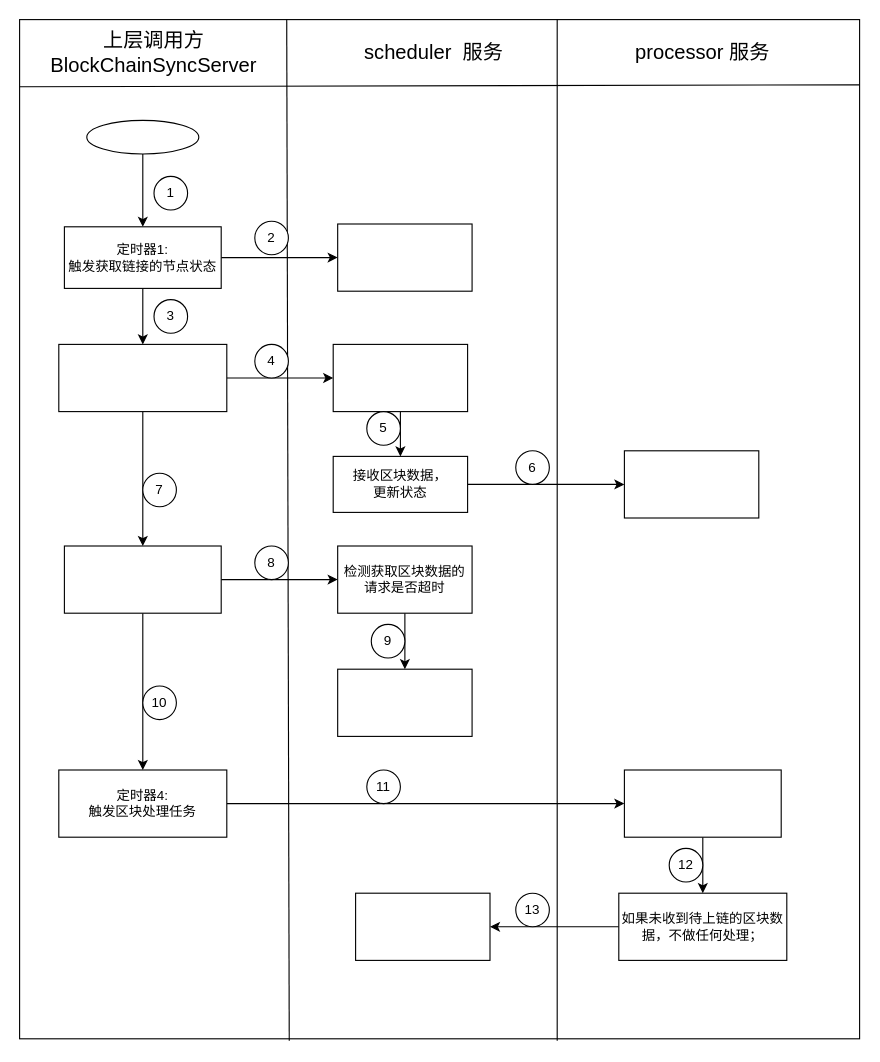
Some shapes in this 880 by 1062 pixel diagram are drawn without their labels. The shapes that lost their labels are listed below. From the top down, each one's centre as x and y in pixels, then its label:
[142,136]: 开始
[404,257]: 接收节点状态应答， 更新节点状态
[142,377]: 定时器2: 触发获取区块任务
[400,377]: 依据内部状态，选择 合适的区块高度、节点，进行请求
[691,484]: 接收区块， 更新内部状态
[142,579]: 定时器3: 触发请求的超时检测
[404,702]: 超时的请求重新放回任务队列，等待下次获取区块任务的触发
[702,803]: 依据内部状态，选择下一个待上链的区块进行处理
[422,926]: 获取区块处理结果， 更新内部状态
